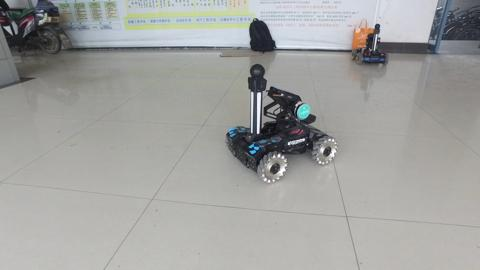bag: (246, 16, 279, 55), (352, 17, 375, 51)
chariot: (223, 63, 338, 184), (349, 22, 389, 66)
